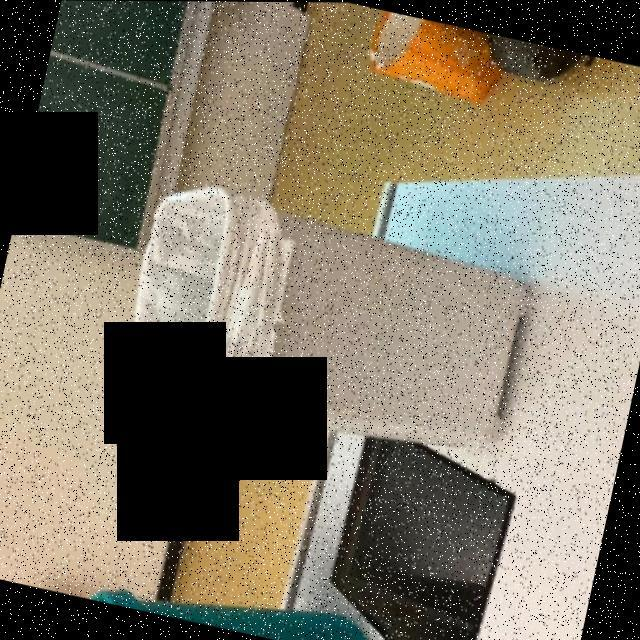bin: (90, 160, 562, 488), (52, 556, 392, 640)
